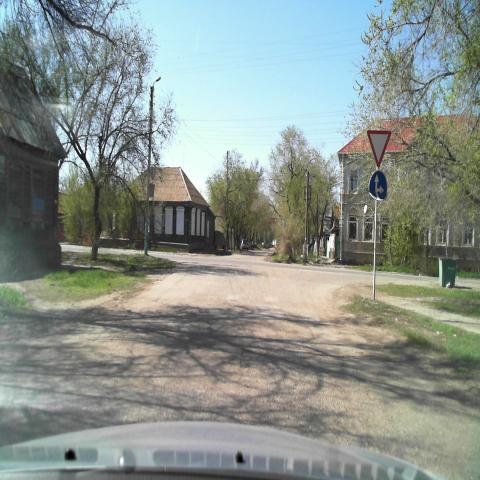4_1_4: (368, 169, 388, 203)
